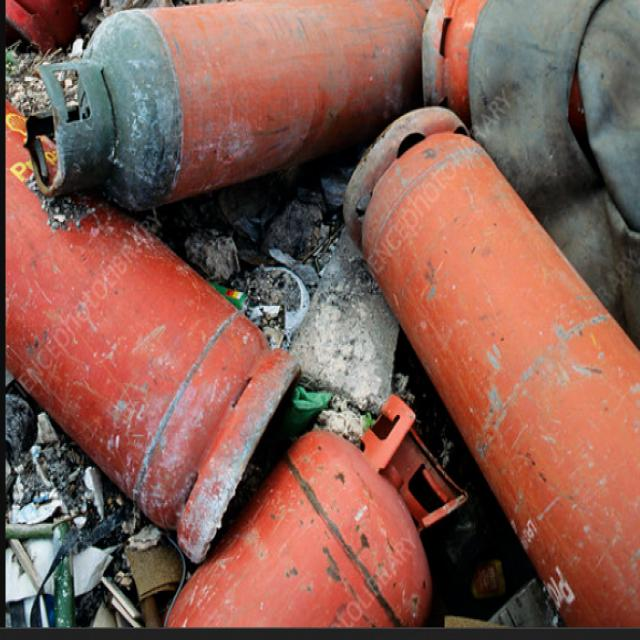cylinder: (344, 107, 639, 626), (28, 3, 433, 213), (157, 393, 468, 627)
